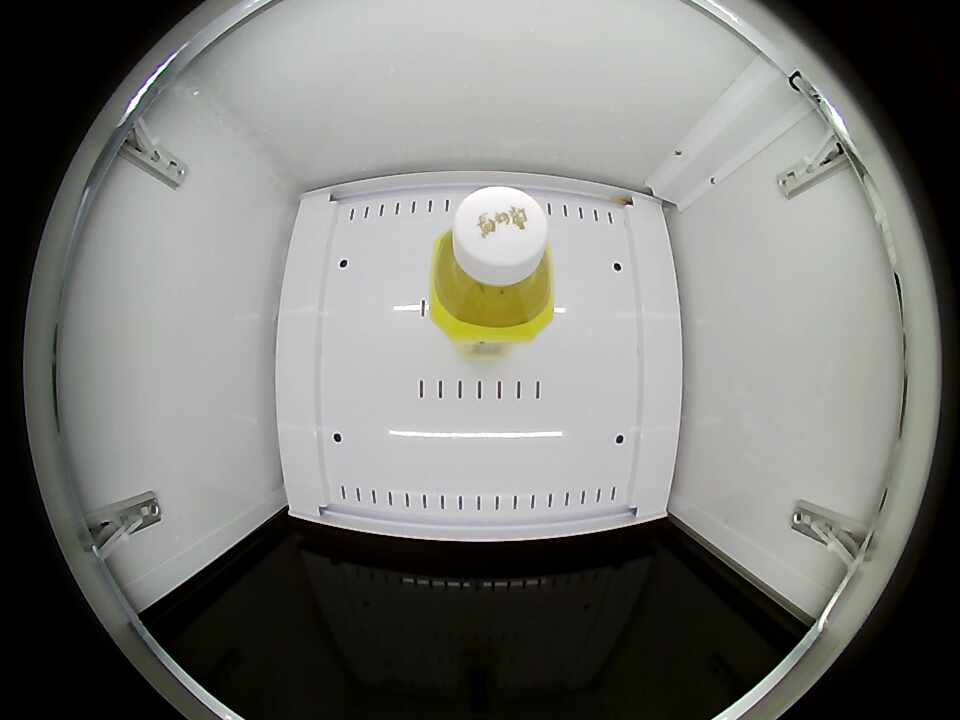bingtangxueli: (429, 185, 555, 340)
